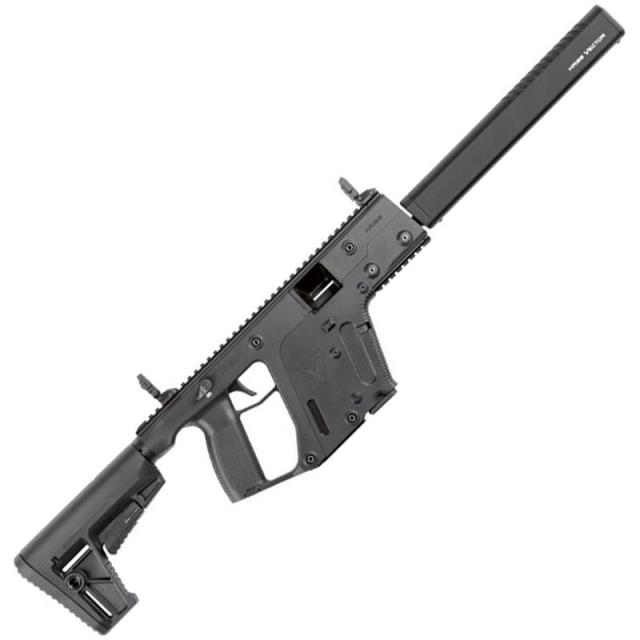SMG: (13, 5, 627, 637)
